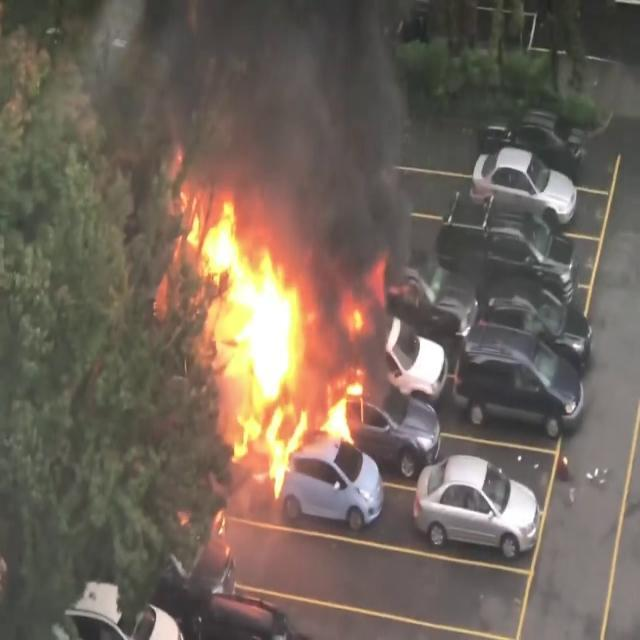Fire: (164, 184, 370, 490)
Smoke: (61, 0, 436, 261)
